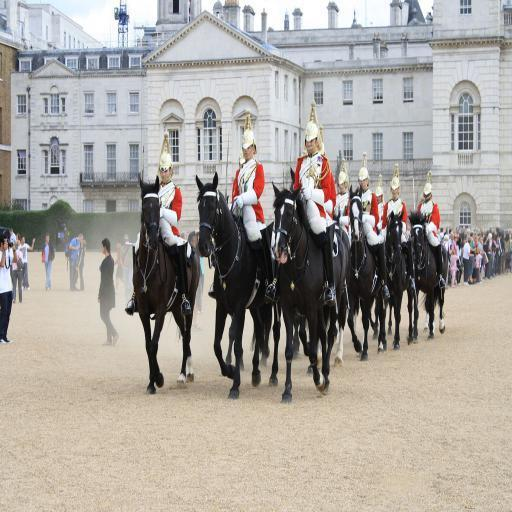horse: (195, 176, 448, 404), (133, 174, 200, 400)
